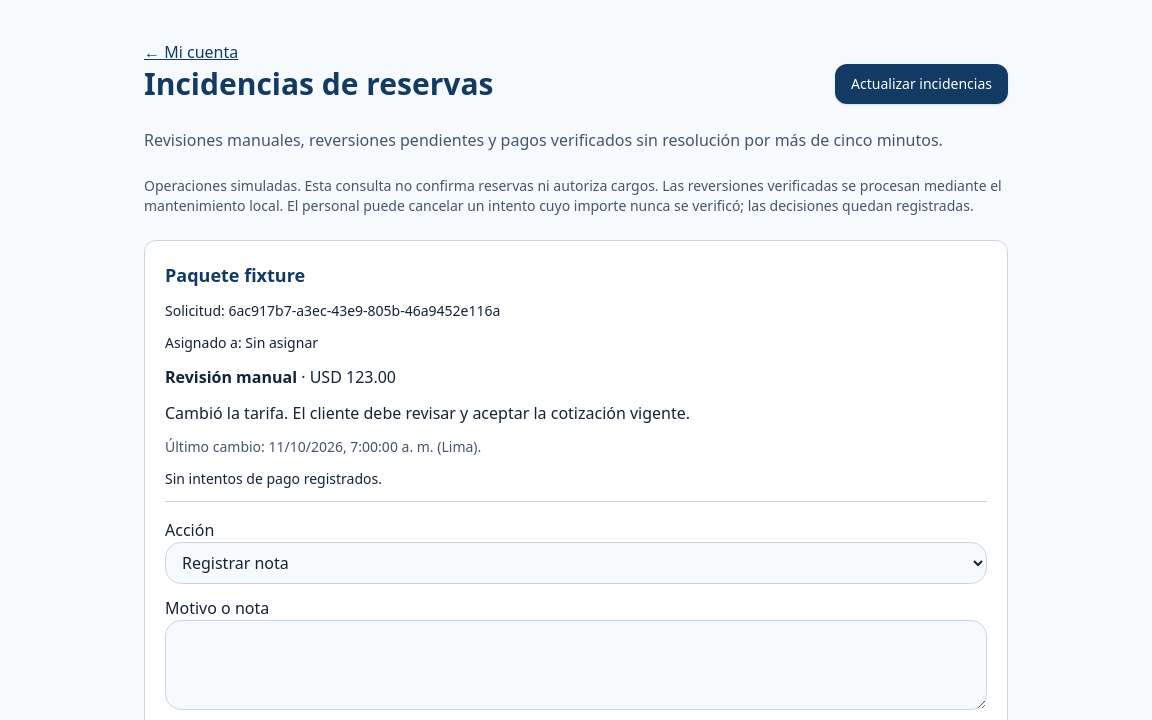
Test: los controles de atención tienen nombres accesibles y el cierre requiere confirmación
The width and height of the screenshot is (1152, 720).
Expected: the heading "Paquete fixture" is shown, x1=165 y1=263 x2=305 y2=287
Select "Cerrar revisión sin pago" in the dropdown labelled "Acción" at point(576, 563), box x1=165 y1=542 x2=987 y2=584
(page scrolled)
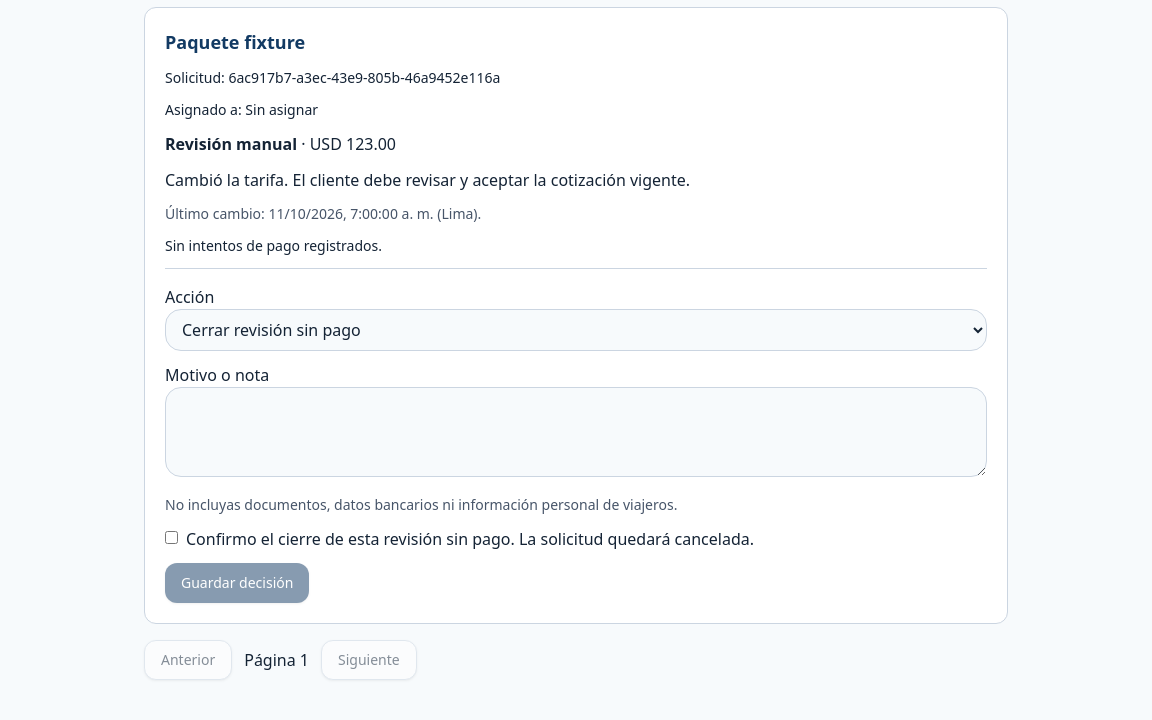
Now the button "Guardar decisión" is disabled, box x1=165 y1=563 x2=309 y2=603
Click the checkbox labelled "Confirmo el cierre".
click(172, 538)  # box x1=165 y1=531 x2=178 y2=544
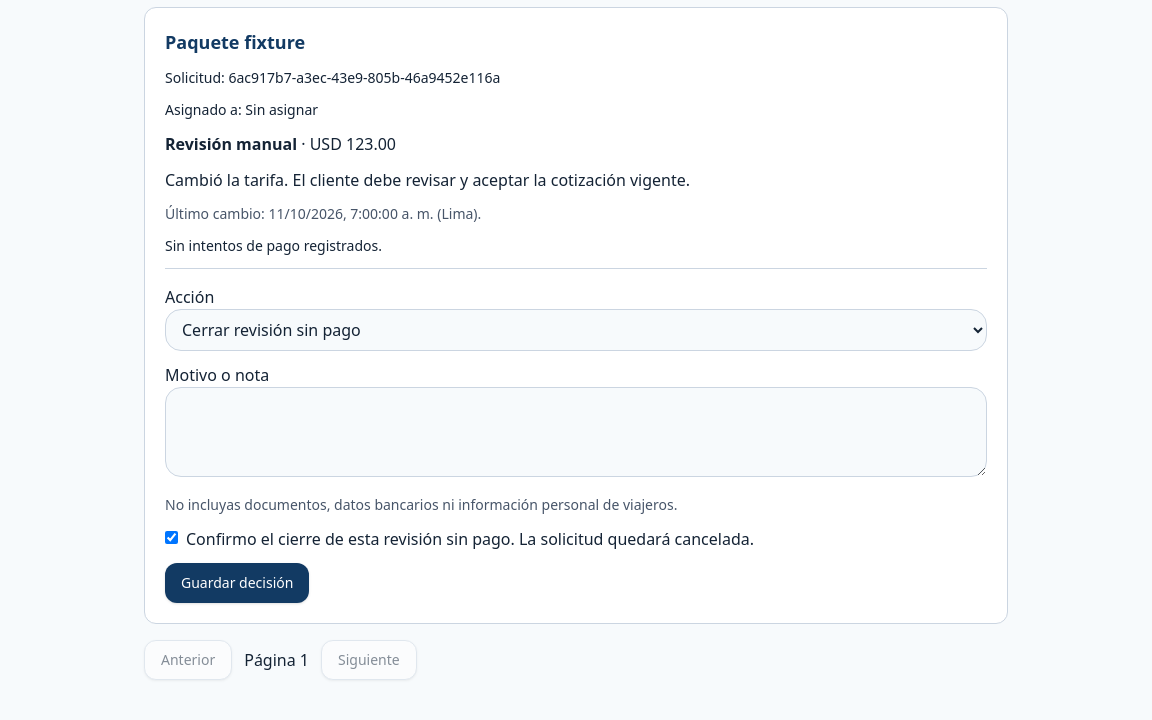
Now the button "Guardar decisión" is enabled, box x1=165 y1=563 x2=309 y2=603
